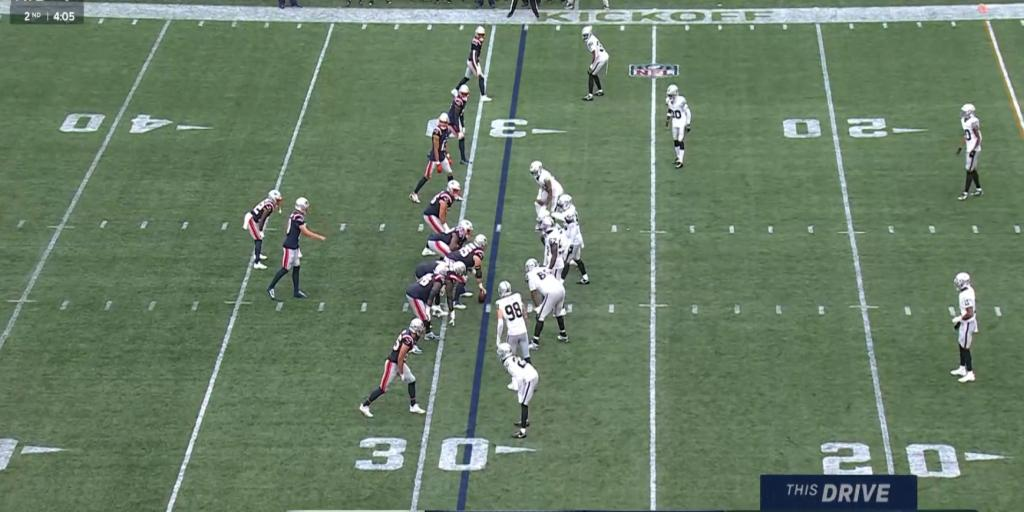player: (359, 318, 425, 417), (267, 198, 325, 299), (407, 263, 464, 337), (497, 342, 538, 437), (525, 258, 567, 343), (412, 113, 454, 194), (551, 194, 588, 283), (243, 189, 282, 268), (950, 272, 976, 382), (496, 281, 530, 362), (457, 25, 490, 100), (447, 235, 487, 288), (666, 84, 691, 167), (582, 26, 609, 100), (961, 104, 982, 194), (540, 216, 569, 281), (424, 181, 460, 233), (529, 161, 563, 216), (423, 220, 472, 257), (447, 84, 468, 139), (959, 179, 970, 200), (460, 145, 465, 159)
